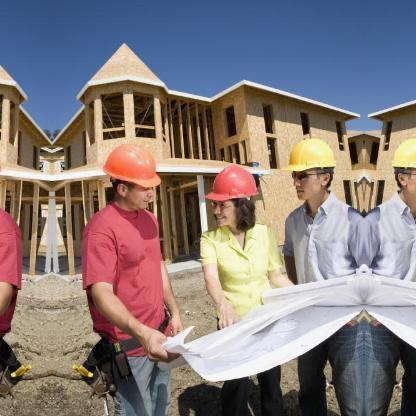helmet: (102, 143, 164, 194), (200, 159, 262, 206), (281, 133, 339, 180)
